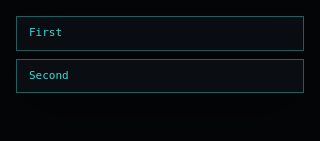
Scenario: Toasts › dismisses only the selected toast
Click the button "First". click: coordinates (46, 32)
box: [16,16,304,50]
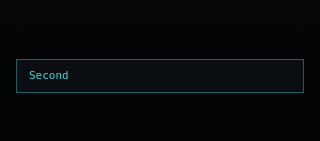
Expected: the button "Second" is shown, [16,58,304,93]
Now the button "First" is gone
